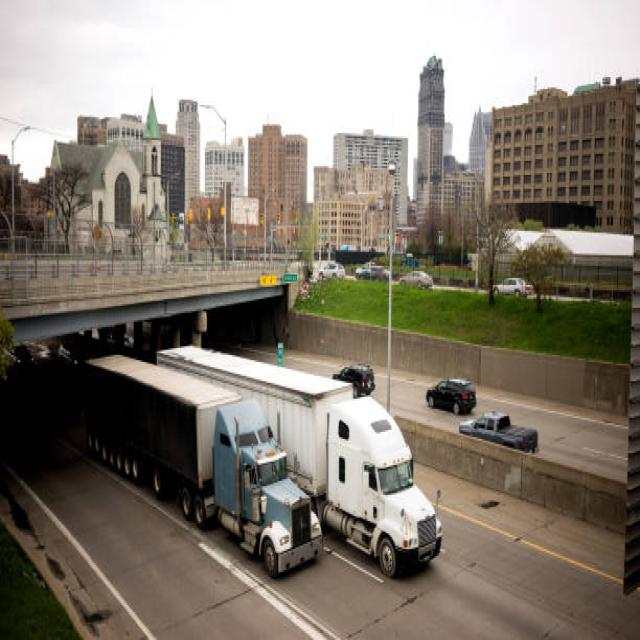16-Wheelers: (155, 341, 442, 577), (82, 352, 323, 577)
Car: (424, 376, 476, 414), (332, 362, 374, 395), (398, 270, 433, 288)
Pickup: (458, 407, 538, 453)
